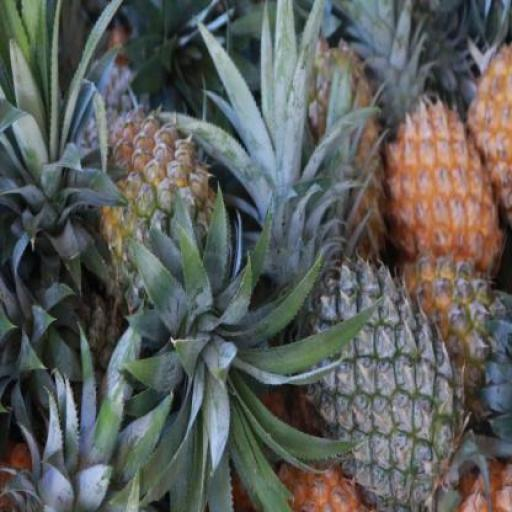------------------------------: (92, 108, 232, 319)
Pineapple - v8 v1: (385, 98, 500, 280)
